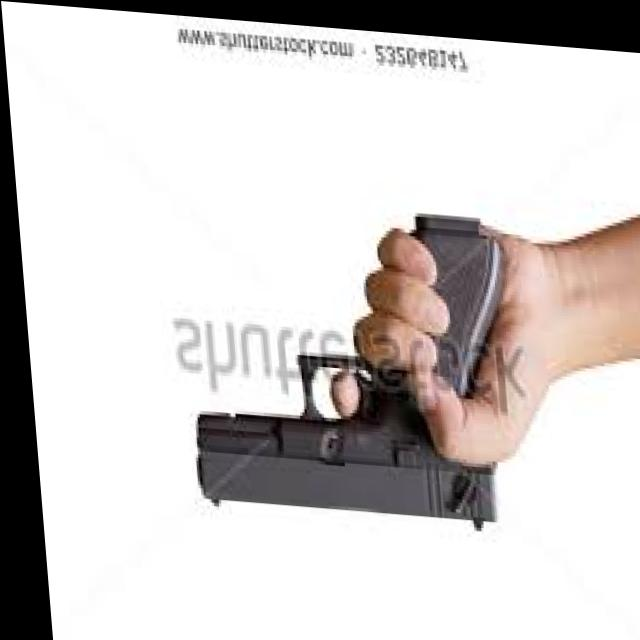handgun: (164, 192, 518, 526)
